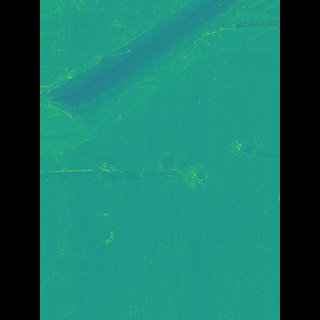Loch: (70, 0, 249, 162), (69, 157, 178, 197), (159, 151, 199, 193), (211, 133, 238, 165)
